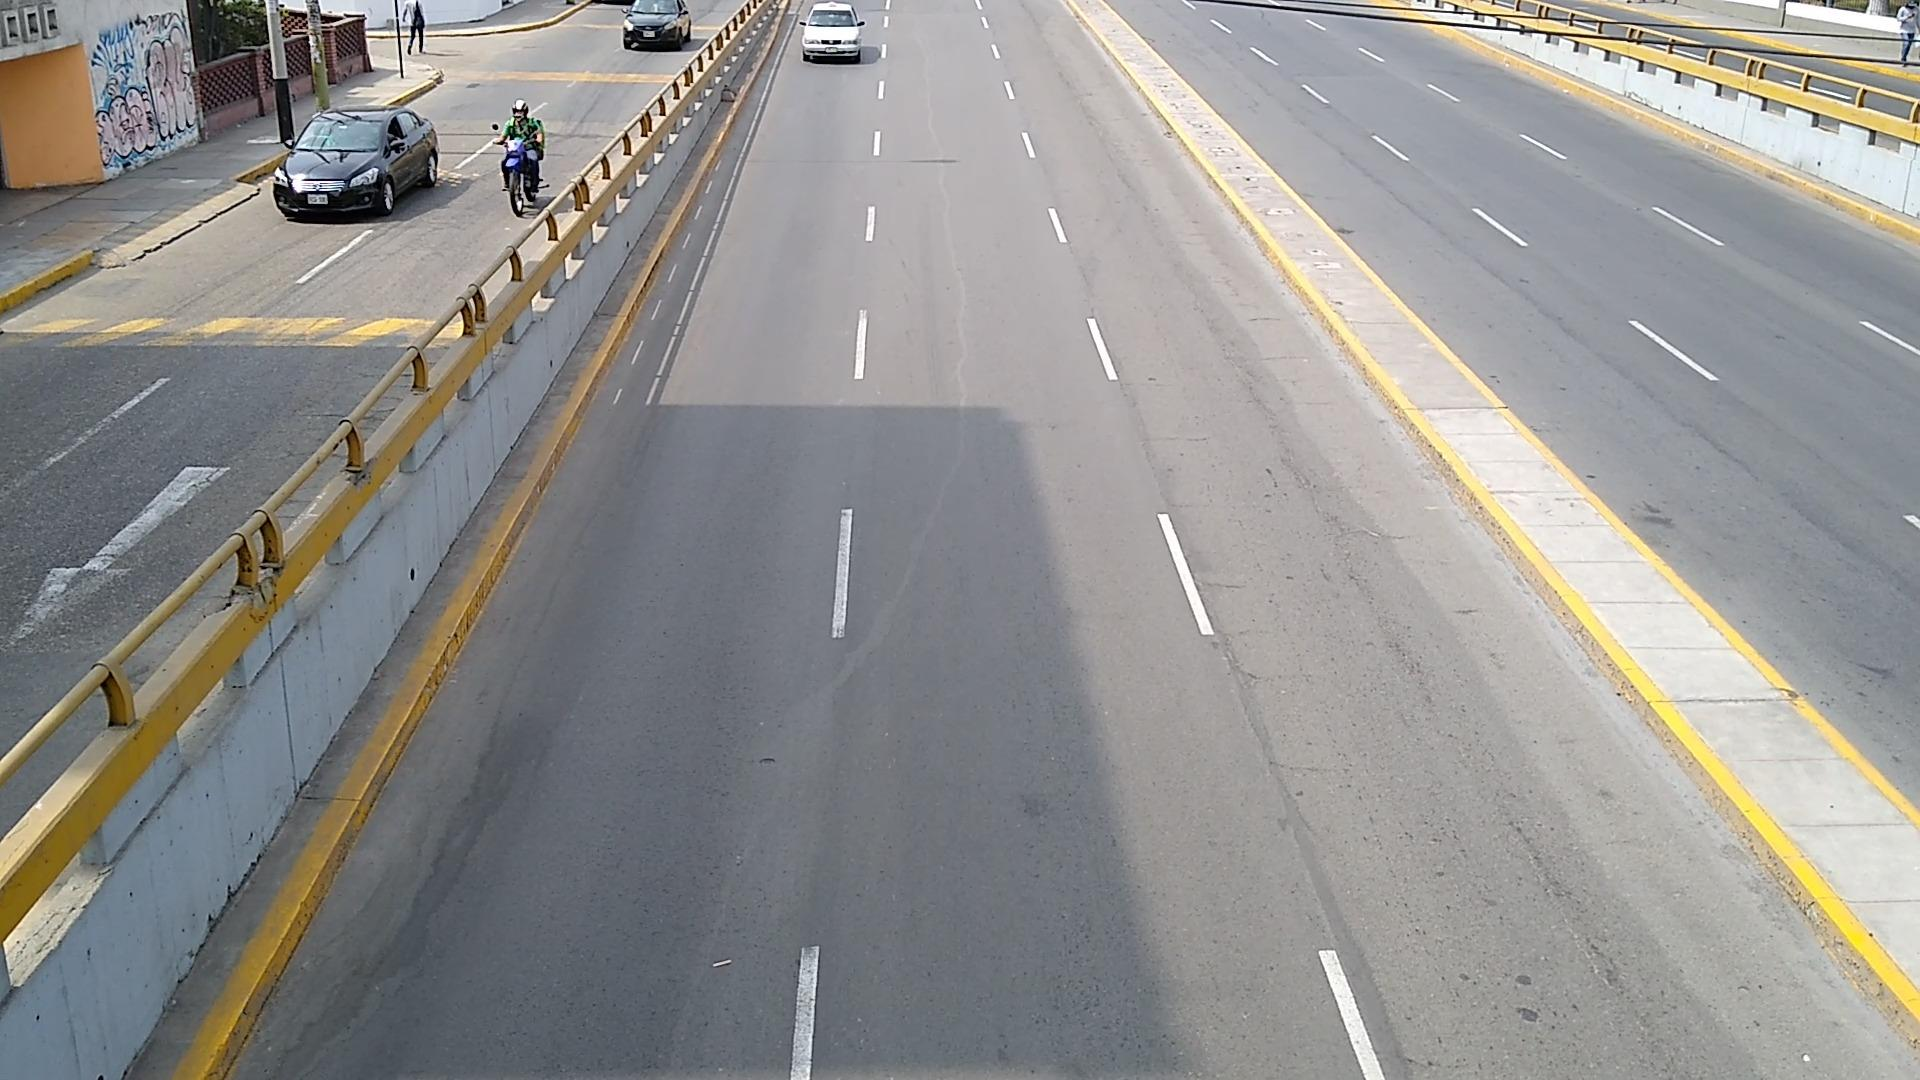car: (274, 108, 439, 222), (622, 0, 694, 49), (803, 0, 862, 58)
motorcyclist: (498, 102, 547, 203)
